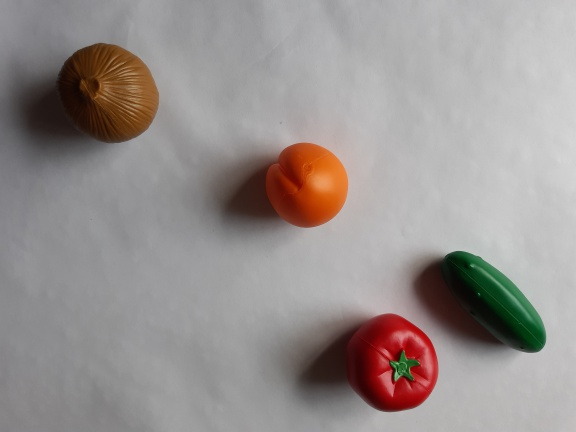apricot: (256, 138, 352, 236)
cucumber: (437, 242, 552, 365)
onion: (50, 38, 170, 150)
tomato: (336, 300, 444, 417)
